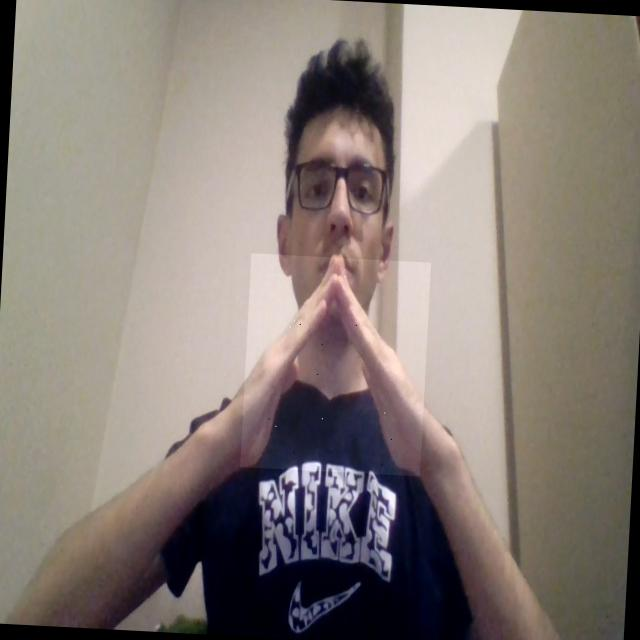house: (240, 254, 431, 476)
